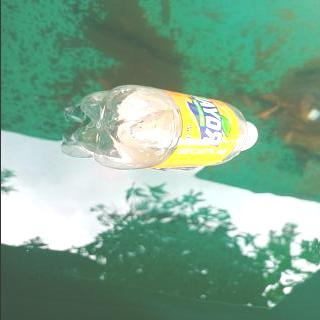bottle: (72, 81, 264, 173)
